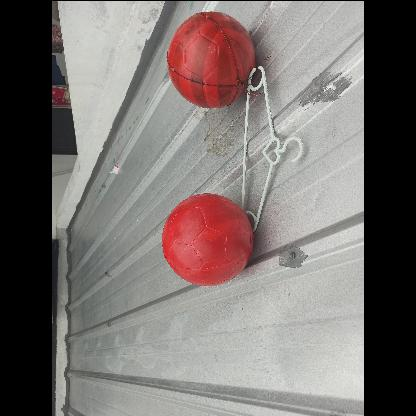red_ball: (164, 14, 254, 106), (161, 195, 251, 285)
